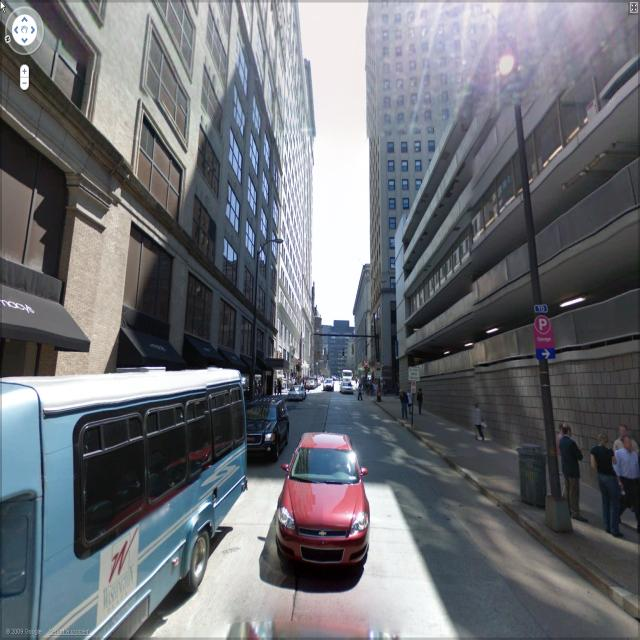b_1: (391, 1, 640, 437), (1, 6, 194, 392), (188, 0, 278, 368), (366, 5, 418, 383), (289, 41, 317, 414), (316, 316, 361, 386)
